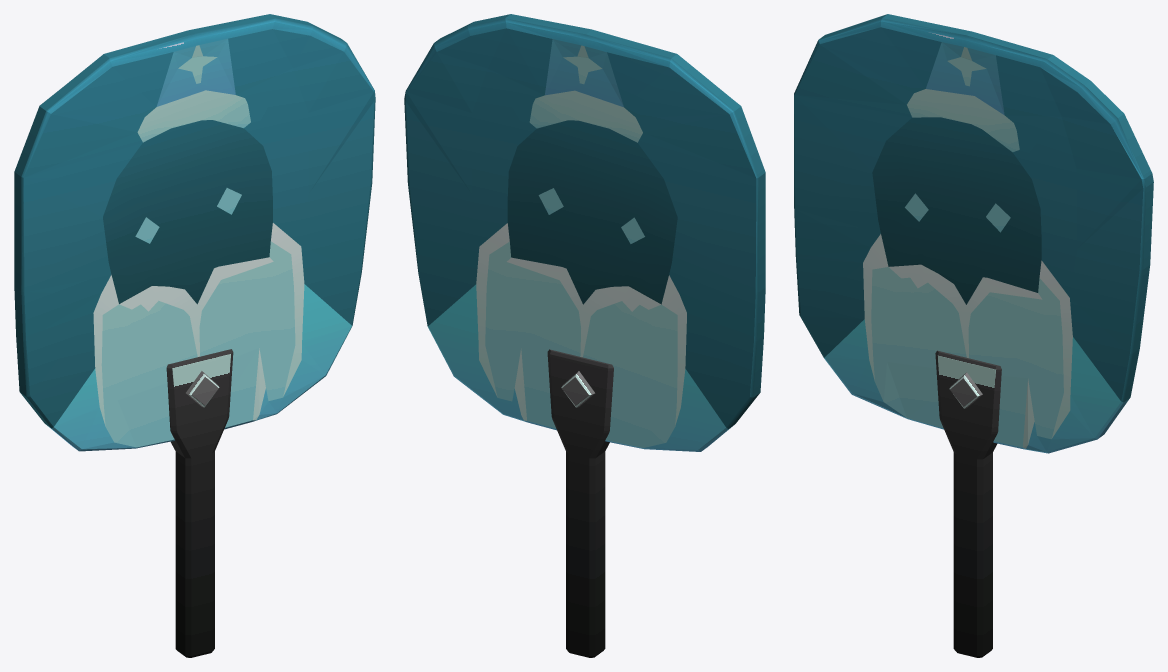
The model's file is CharSkyKid_Prop_JenovaFan.glb.
The picture shows the model from 3 angles, left to right: view 1: azimuth 30°, elevation 25°; view 2: azimuth 150°, elevation 25°; view 3: azimuth 330°, elevation 25°; orthographic projection.
Parts seen in each view (by area): view 1: CharSkyKid_Prop_JenovaFan; view 2: CharSkyKid_Prop_JenovaFan; view 3: CharSkyKid_Prop_JenovaFan.
Boxes of the visible parts, bbox=[...] form: CharSkyKid_Prop_JenovaFan: bbox=[14, 14, 375, 657]; CharSkyKid_Prop_JenovaFan: bbox=[404, 14, 765, 657]; CharSkyKid_Prop_JenovaFan: bbox=[794, 14, 1153, 657].
Bounding box in the file's own units: 2.56 × 4.29 × 0.2532.
1 material, 1 textured.
